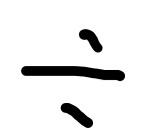div: (21, 29, 125, 128)
